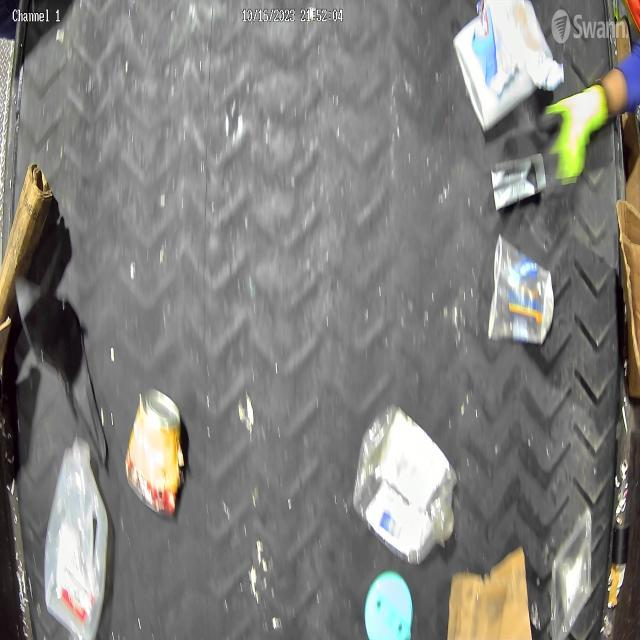can: (123, 384, 186, 522)
milk_jug: (42, 432, 109, 640)
